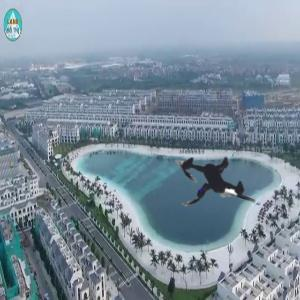drone: (147, 117, 285, 255)
